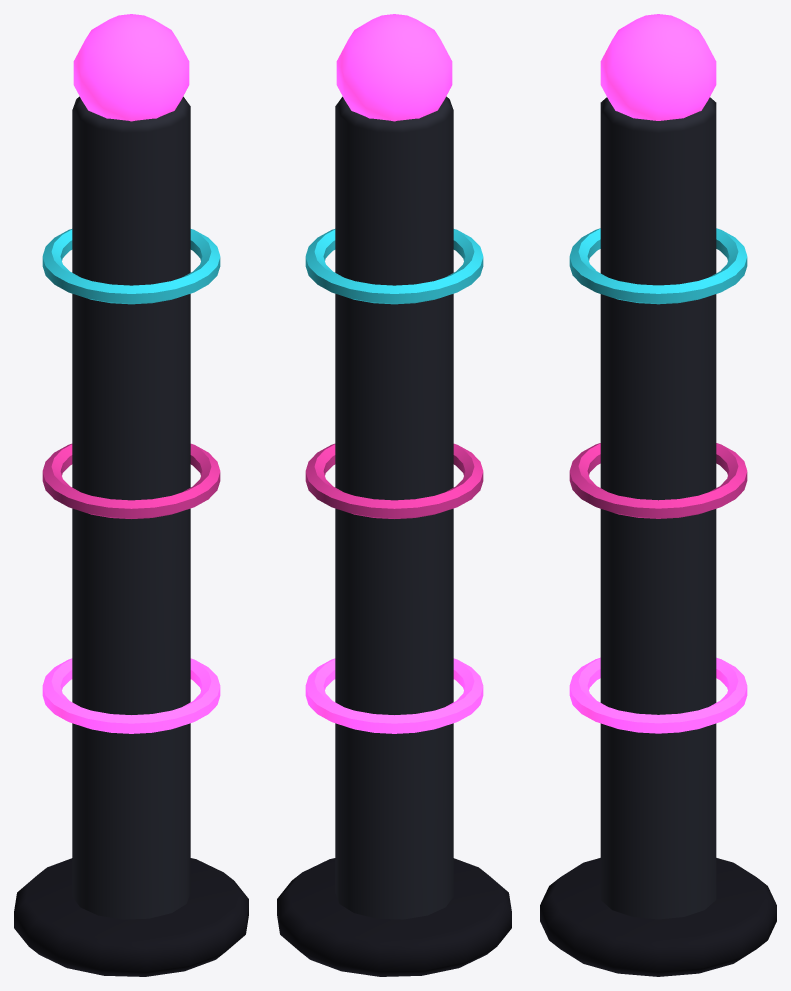
Rendered from light_totem.glb.
The picture shows the model from 3 angles, left to right: view 1: azimuth 30°, elevation 25°; view 2: azimuth 150°, elevation 25°; view 3: azimuth 270°, elevation 25°; orthographic projection.
Visible parts, largest first — view 1: light_totem; view 2: light_totem; view 3: light_totem.
Boxes of the visible parts, left/top/right/bottom form: light_totem: left=14, top=14, right=248, bottom=976; light_totem: left=277, top=14, right=511, bottom=976; light_totem: left=540, top=14, right=776, bottom=976.
Size of the model in its own units: 0.8 by 3.4 by 0.8.
